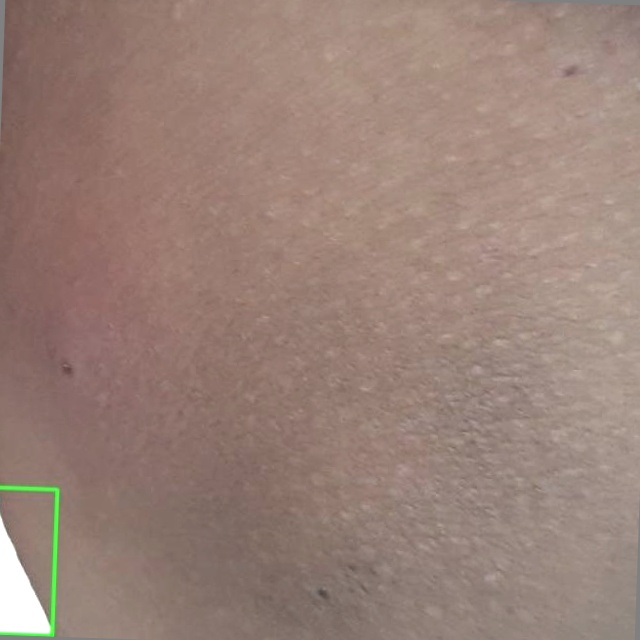Eczema: (0, 487, 57, 635)
